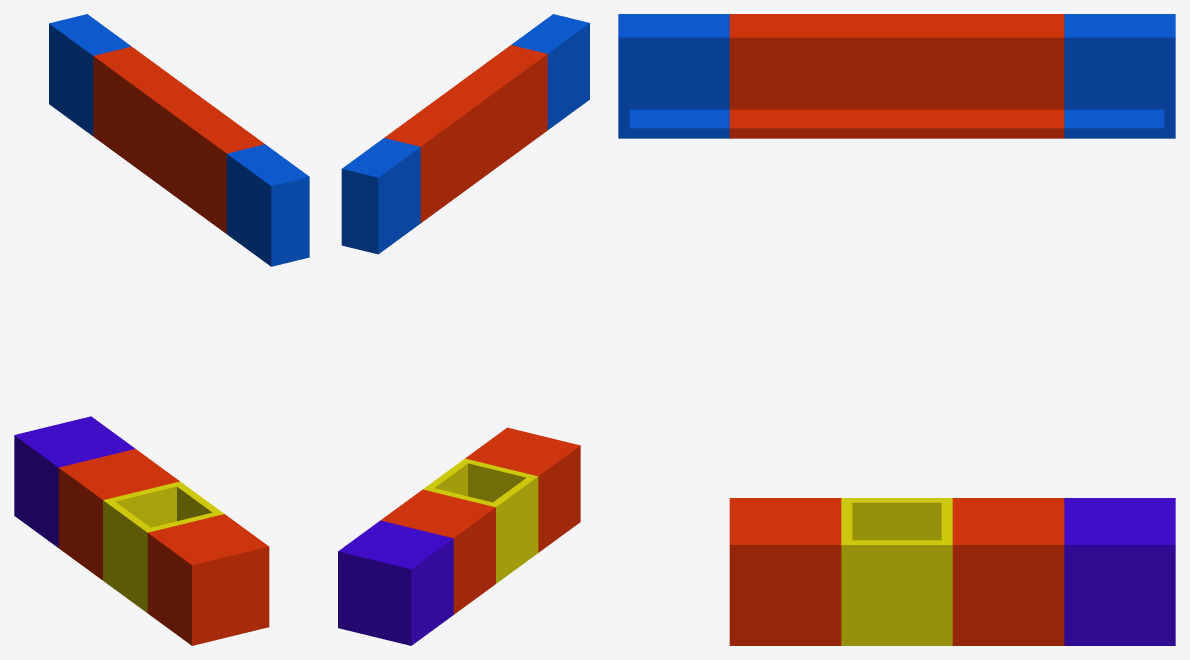
Rendered from stage2_UV.fbx.
3 views of the same model, side by side, from view 1: azimuth 30°, elevation 25°; view 2: azimuth 150°, elevation 25°; view 3: azimuth 270°, elevation 25° (orthographic). The views are drawn at different scales.
Parts seen in each view (by area): view 1: tyoku3d.004, kado2d.003, kado3d, ana3d, tyoku3d, tyoku2d.005, tyoku2d.006, kado2d.004, tyoku2d.004; view 2: kado3d, kado2d.004, tyoku3d, tyoku3d.004, ana3d, tyoku2d.005, tyoku2d.004, kado2d.003, tyoku2d.006; view 3: tyoku3d.004, tyoku3d, kado3d, ana3d, tyoku2d.006, tyoku2d.004, kado2d.003, kado2d.004, tyoku2d.005.
Boxes of the visible parts, bbox=[...] form: tyoku3d.004: bbox=[147, 514, 269, 645]; kado2d.003: bbox=[226, 144, 309, 266]; kado3d: bbox=[14, 416, 135, 547]; ana3d: bbox=[103, 481, 223, 612]; tyoku3d: bbox=[58, 449, 179, 580]; tyoku2d.005: bbox=[137, 79, 220, 201]; tyoku2d.006: bbox=[93, 46, 175, 168]; kado2d.004: bbox=[49, 14, 131, 135]; tyoku2d.004: bbox=[182, 111, 264, 233]; kado3d: bbox=[338, 520, 453, 645]; kado2d.004: bbox=[341, 138, 420, 254]; tyoku3d: bbox=[380, 489, 495, 614]; tyoku3d.004: bbox=[465, 427, 580, 552]; ana3d: bbox=[423, 458, 538, 583]; tyoku2d.005: bbox=[426, 76, 505, 192]; tyoku2d.004: bbox=[469, 45, 547, 161]; kado2d.003: bbox=[511, 14, 589, 129]; tyoku2d.006: bbox=[384, 107, 462, 222]; tyoku3d.004: bbox=[729, 498, 841, 645]; tyoku3d: bbox=[952, 498, 1064, 645]; kado3d: bbox=[1064, 498, 1175, 645]; ana3d: bbox=[841, 498, 952, 645]; tyoku2d.006: bbox=[952, 14, 1064, 138]; tyoku2d.004: bbox=[729, 14, 841, 138]; kado2d.003: bbox=[618, 14, 729, 138]; kado2d.004: bbox=[1064, 14, 1175, 138]; tyoku2d.005: bbox=[841, 14, 952, 138].
Size of the model in its own units: 2000 by 12000 by 10000.
